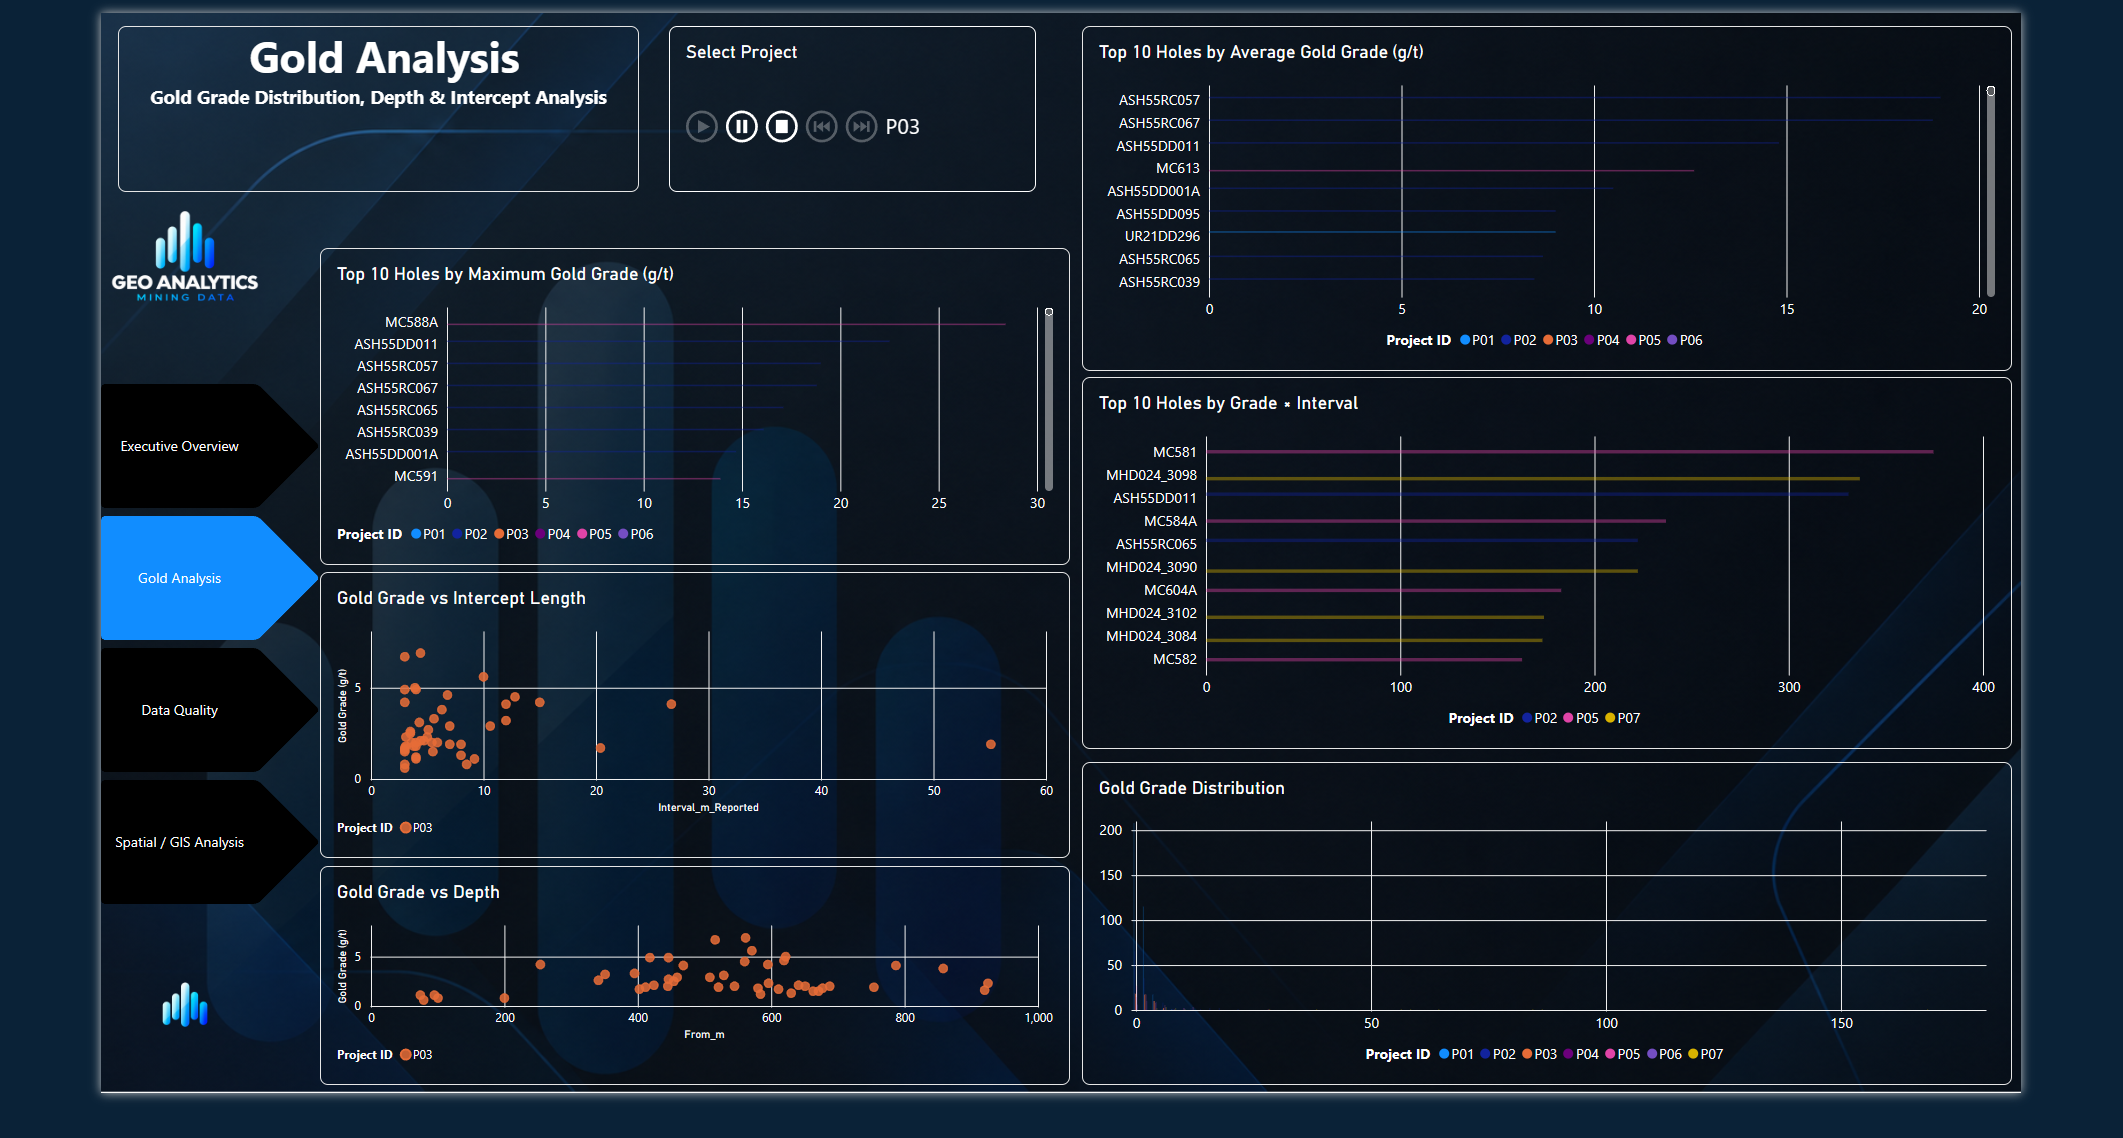

This screenshot's page, from the dashboard's own definition file:
{"tool":"powerbi","page":{"name":"Gold Analysis","canvas":[1920,1080],"ordinal":1},"visuals":[{"type":"clusteredColumnChart","title":"Gold Grade Distribution","fields":{"Category":["mining_geology_project intercepts.Au_g_t (bins)"],"Y":["Count(mining_geology_project intercepts.Intercept_ID)"]},"box":[969.2,722.3,950.8,358.1],"z":0},{"type":"clusteredBarChart","title":"Top 10 Holes by Grade × Interval","fields":{"Category":["mining_geology_project intercepts.Hole_ID"],"Y":["Max(mining_geology_project intercepts.Grade_Interval)"]},"box":[968.8,336.7,951.2,385.8],"z":1000},{"type":"clusteredBarChart","title":"Top 10 Holes by Maximum Gold Grade (g/t)","fields":{"Category":["mining_geology_project drillholes.Hole_ID"],"Y":["Max(mining_geology_project intercepts.Au_g_t)"]},"box":[0,234.6,968.8,337.7],"z":2000},{"type":"clusteredBarChart","title":"Top 10 Holes by Average Gold Grade (g/t)","fields":{"Category":["mining_geology_project drillholes.Hole_ID"],"Y":["Avg(mining_geology_project intercepts.Au_g_t)"]},"box":[968.8,0,951.2,336.7],"z":3000},{"type":"scatterChart","title":"Gold Grade vs Depth","fields":{"Series":["mining_geology_project intercepts.Project_ID"],"X":["mining_geology_project intercepts.From_m"],"Y":["mining_geology_project intercepts.Au_g_t"]},"box":[0,844.7,969.2,235.7],"z":4000},{"type":"scatterChart","title":"Gold Grade vs Intercept Length","fields":{"Series":["mining_geology_project intercepts.Project_ID"],"X":["mining_geology_project intercepts.Interval_m_Reported"],"Y":["mining_geology_project intercepts.Au_g_t"]},"box":[0,572.3,968.8,272.9],"z":5000},{"type":"PBI_CV_16948668_E17D_454B_8664_2F2C470EA8C1","fields":{"category":["mining_geology_project drillholes.Project_ID"]},"box":[304.6,0,664.7,234.6],"z":6000},{"type":"textbox","box":[0,0,305,234.6],"z":7000}]}

Visuals, with their boxes on the page's 1920x1080 design canvas (x1, y1, x2, y2). These are canvas units, not pixel positions in the 2123x1138 screenshot, which may show the page scaled, cropped or inside an application window:
"Gold Grade Distribution" clusteredColumnChart: [left=969, top=722, right=1920, bottom=1080]
"Top 10 Holes by Grade × Interval" clusteredBarChart: [left=969, top=337, right=1920, bottom=722]
"Top 10 Holes by Maximum Gold Grade (g/t)" clusteredBarChart: [left=0, top=235, right=969, bottom=572]
"Top 10 Holes by Average Gold Grade (g/t)" clusteredBarChart: [left=969, top=0, right=1920, bottom=337]
"Gold Grade vs Depth" scatterChart: [left=0, top=845, right=969, bottom=1080]
"Gold Grade vs Intercept Length" scatterChart: [left=0, top=572, right=969, bottom=845]
PBI_CV_16948668_E17D_454B_8664_2F2C470EA8C1 - mining_geology_project drillholes.Project_ID: [left=305, top=0, right=969, bottom=235]
textbox: [left=0, top=0, right=305, bottom=235]
